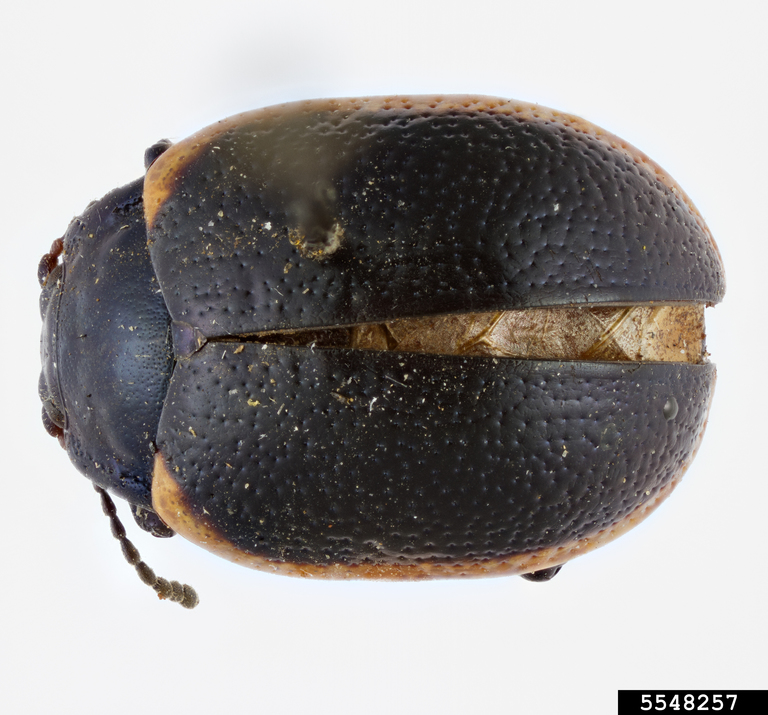Chrysolina_gypsophila: (25, 83, 731, 614)
